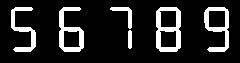eight: (156, 6, 181, 52)
five: (10, 6, 36, 53)
nine: (203, 6, 229, 53)
seven: (109, 6, 133, 49)
six: (59, 7, 84, 52)
